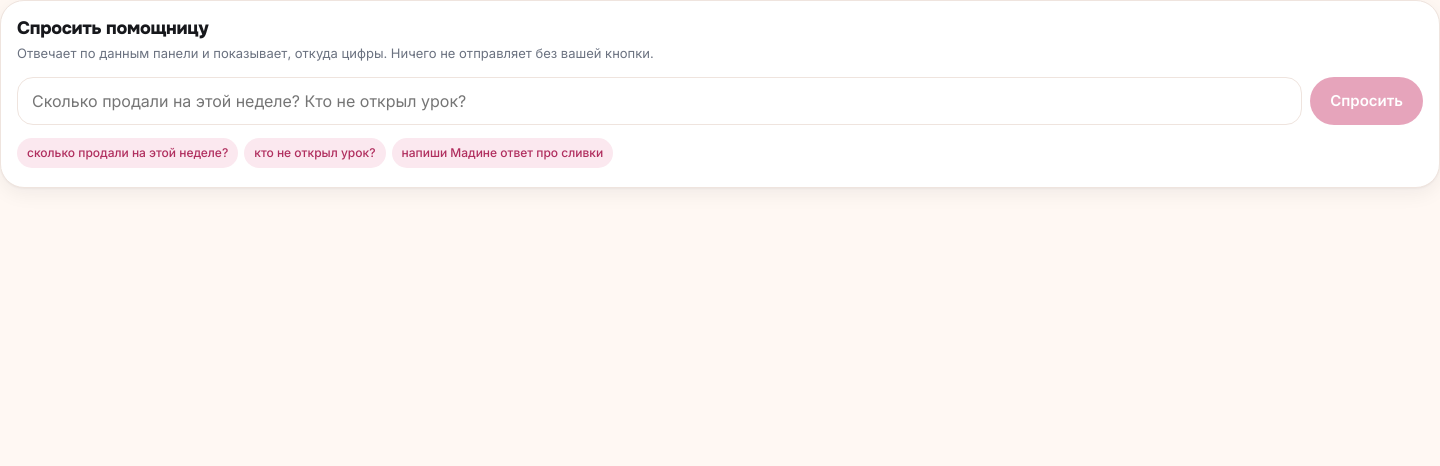
it: AssistantBox › «Откуда цифры» раскрывается в список источников, источник — в таблицу
What coordinates should you click on to do the following:
click the button "кто не открыл урок?"
I would click on:
 (315, 153)
Its box is [244, 138, 386, 168].
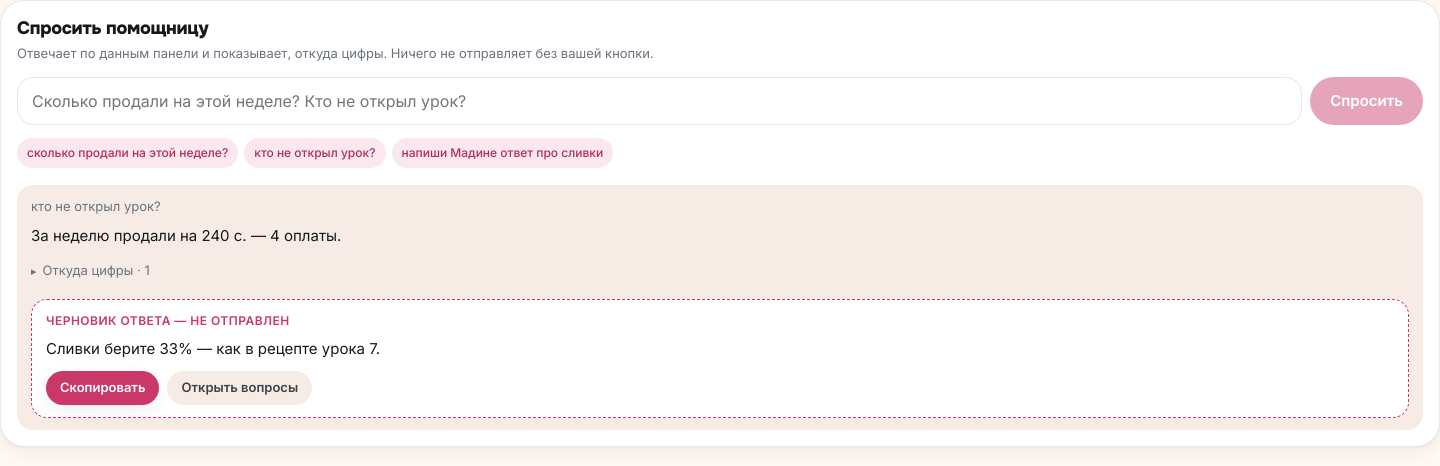
Check: the heading "Откуда цифры · 1" is shown, box [42, 262, 150, 278]
